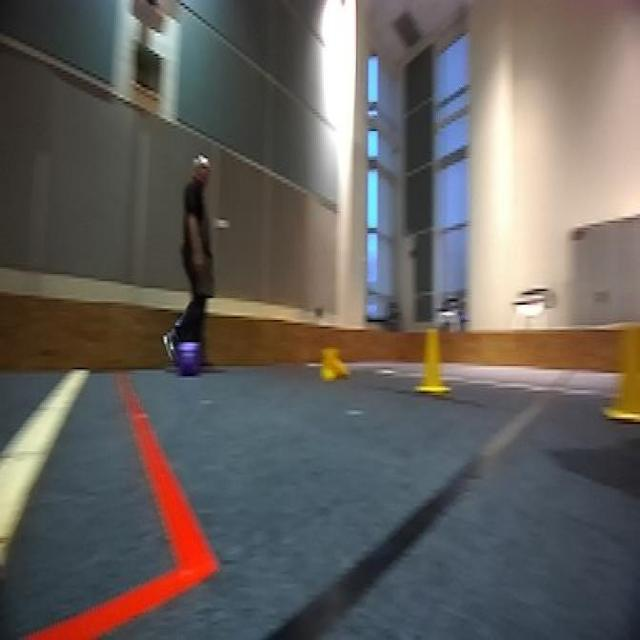frc_cone: (603, 325, 640, 431), (414, 327, 451, 393), (320, 348, 349, 382)
frc_cube: (177, 339, 201, 378)
